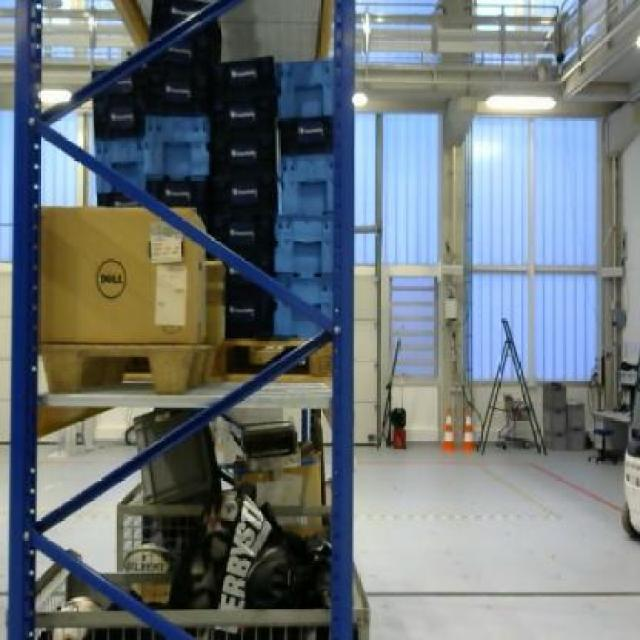box: (38, 204, 208, 346)
